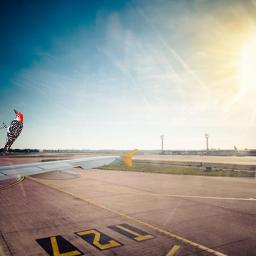Woodpecker: (0, 108, 23, 152)
